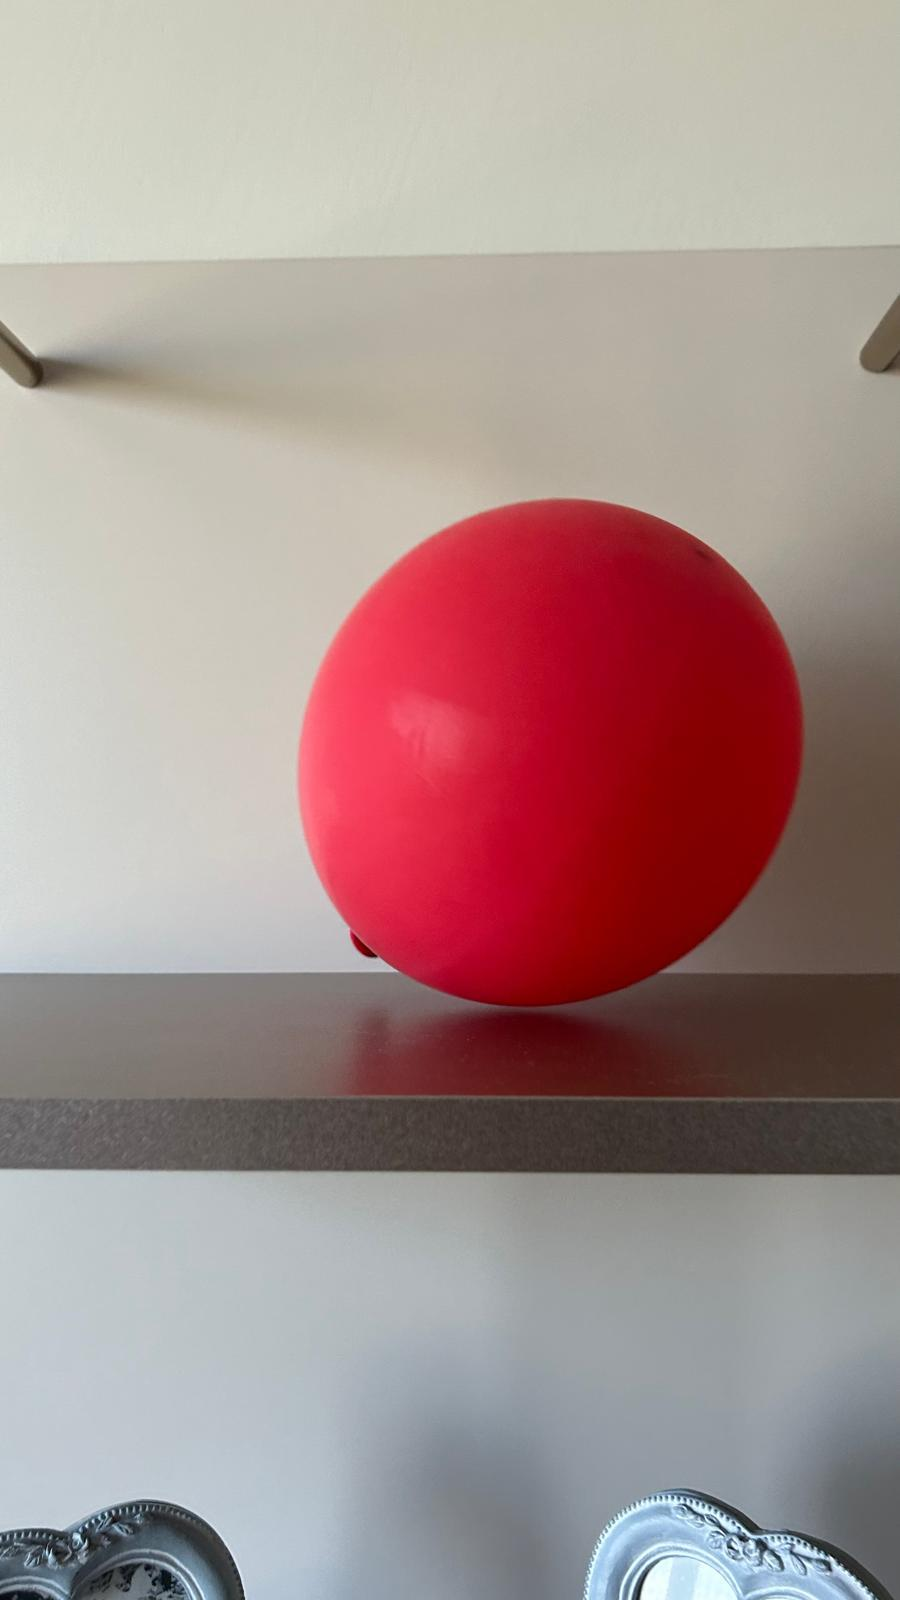red: (298, 495, 808, 1002)
